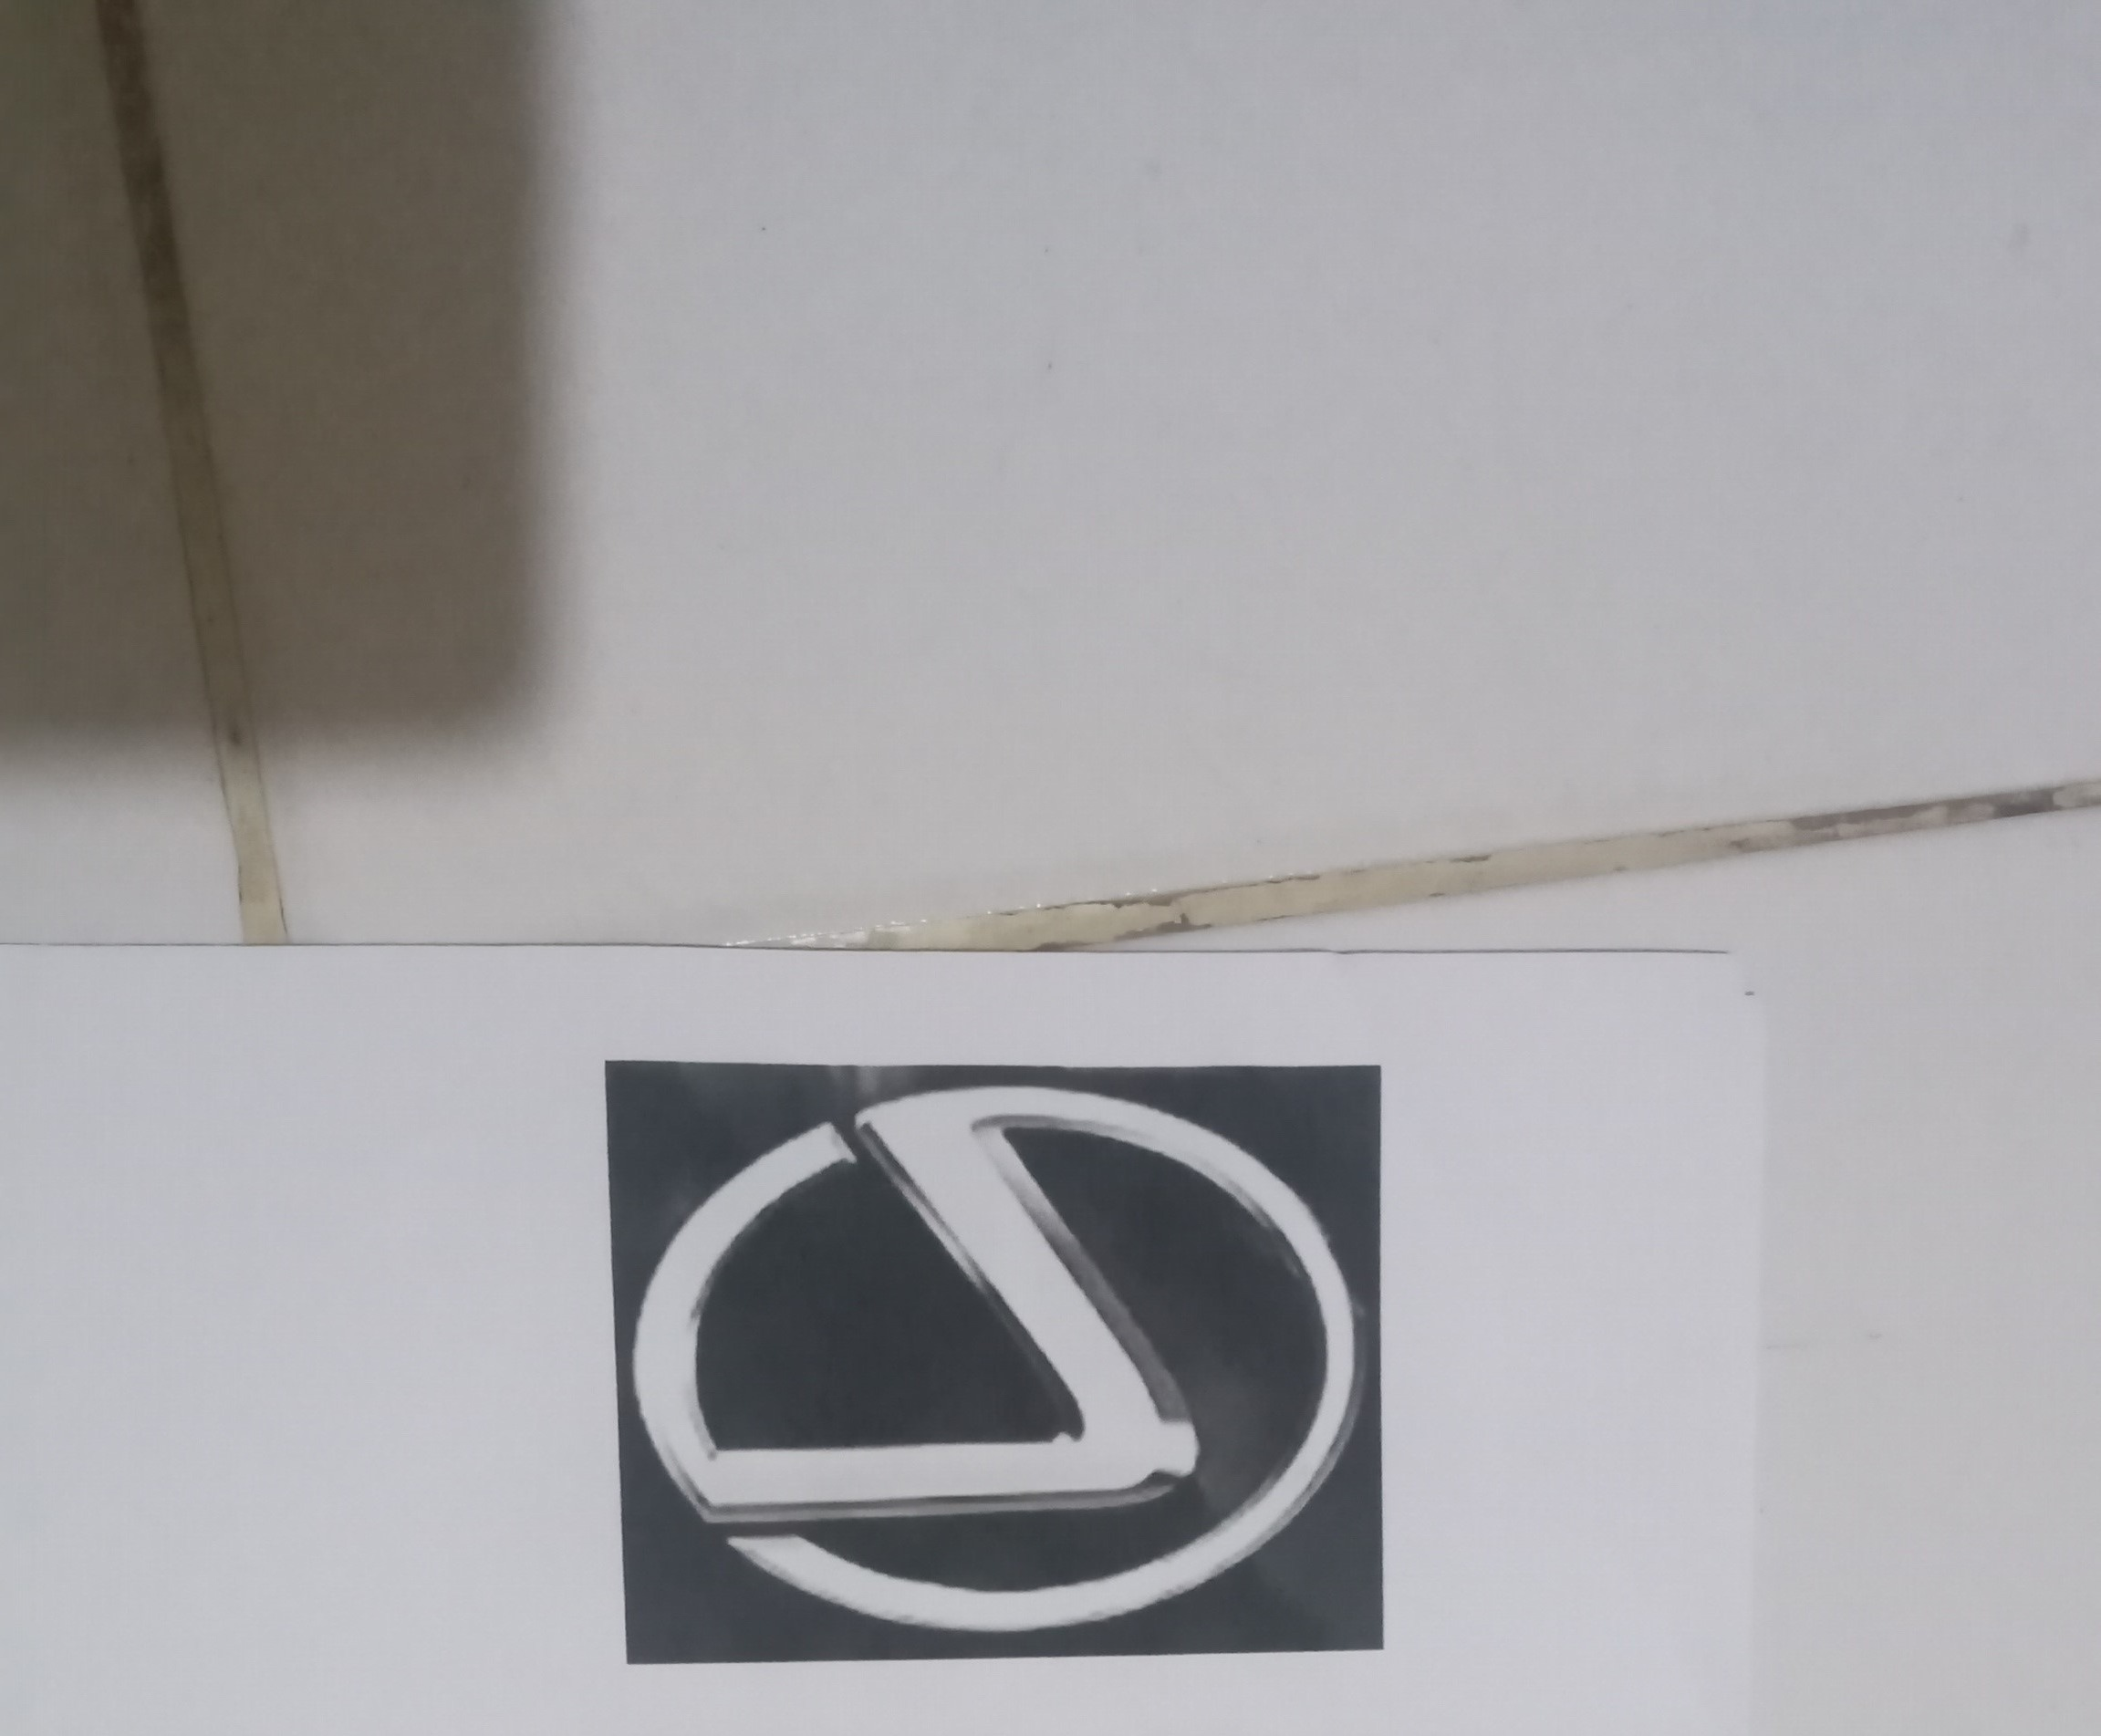Lexus: (630, 1073, 1372, 1640)
